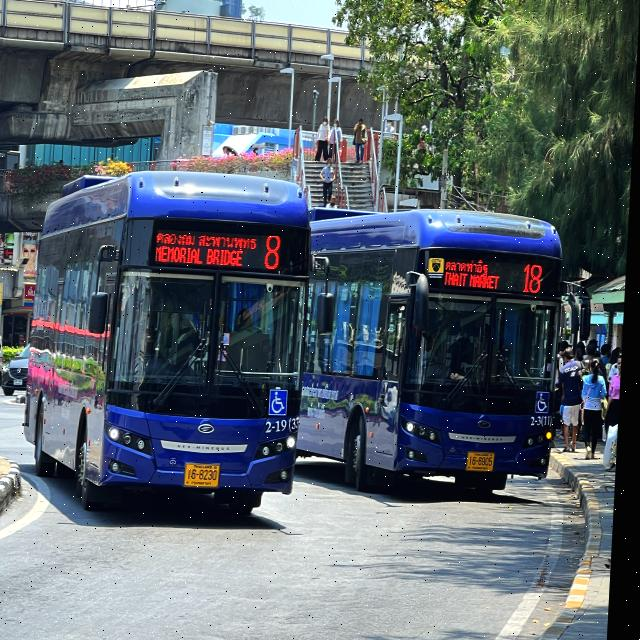Bus-Line-Number: (522, 257, 549, 301), (263, 232, 288, 271)
Destination-Sign-Normal: (154, 226, 263, 276), (444, 255, 506, 298)
TSB-Bus: (23, 170, 319, 514), (300, 209, 570, 497)
